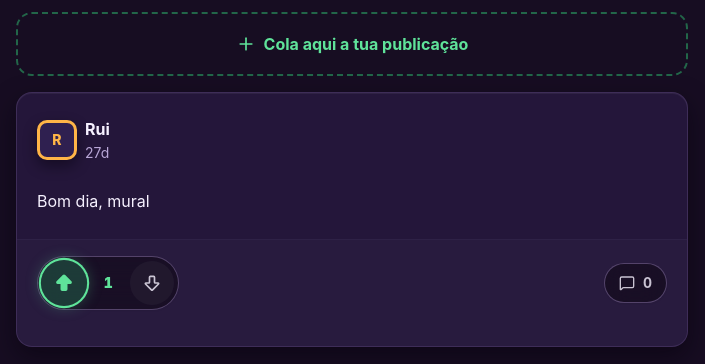
Test: HubFeedModule › downvotes, cancelling an active upvote
This screenshot has width=705, height=364.
Click the button named "Downvote": (152, 283) [130,261,174,305]
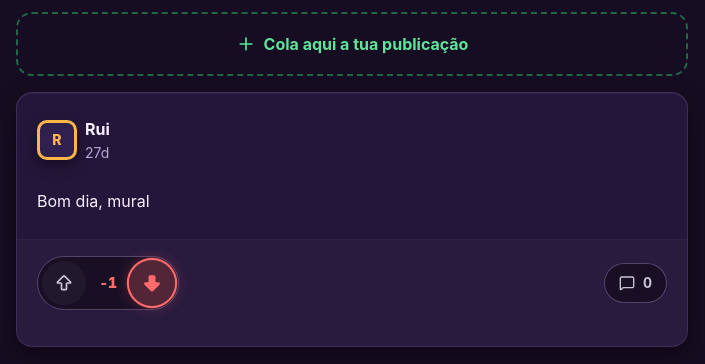
Expected: the button named "Upvote" is shown, [42,261,86,305]
Expected: the button named "Remover downvote" is shown, [129,260,175,306]
